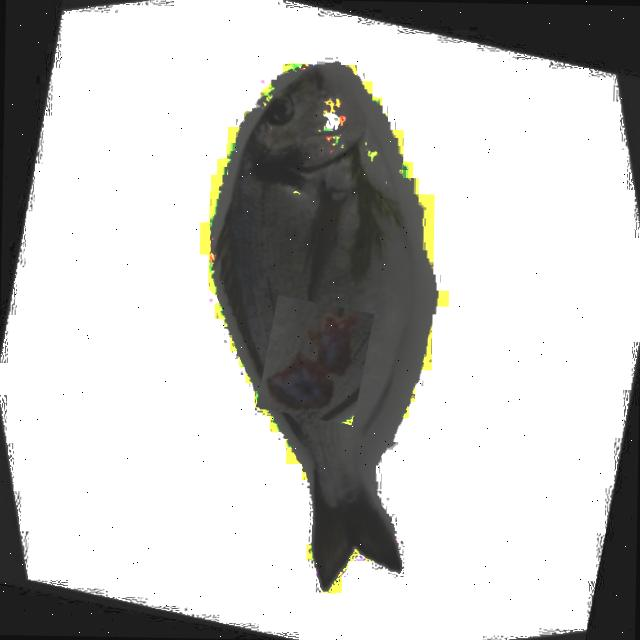Aeromonas Septicemia: (212, 63, 439, 590)
